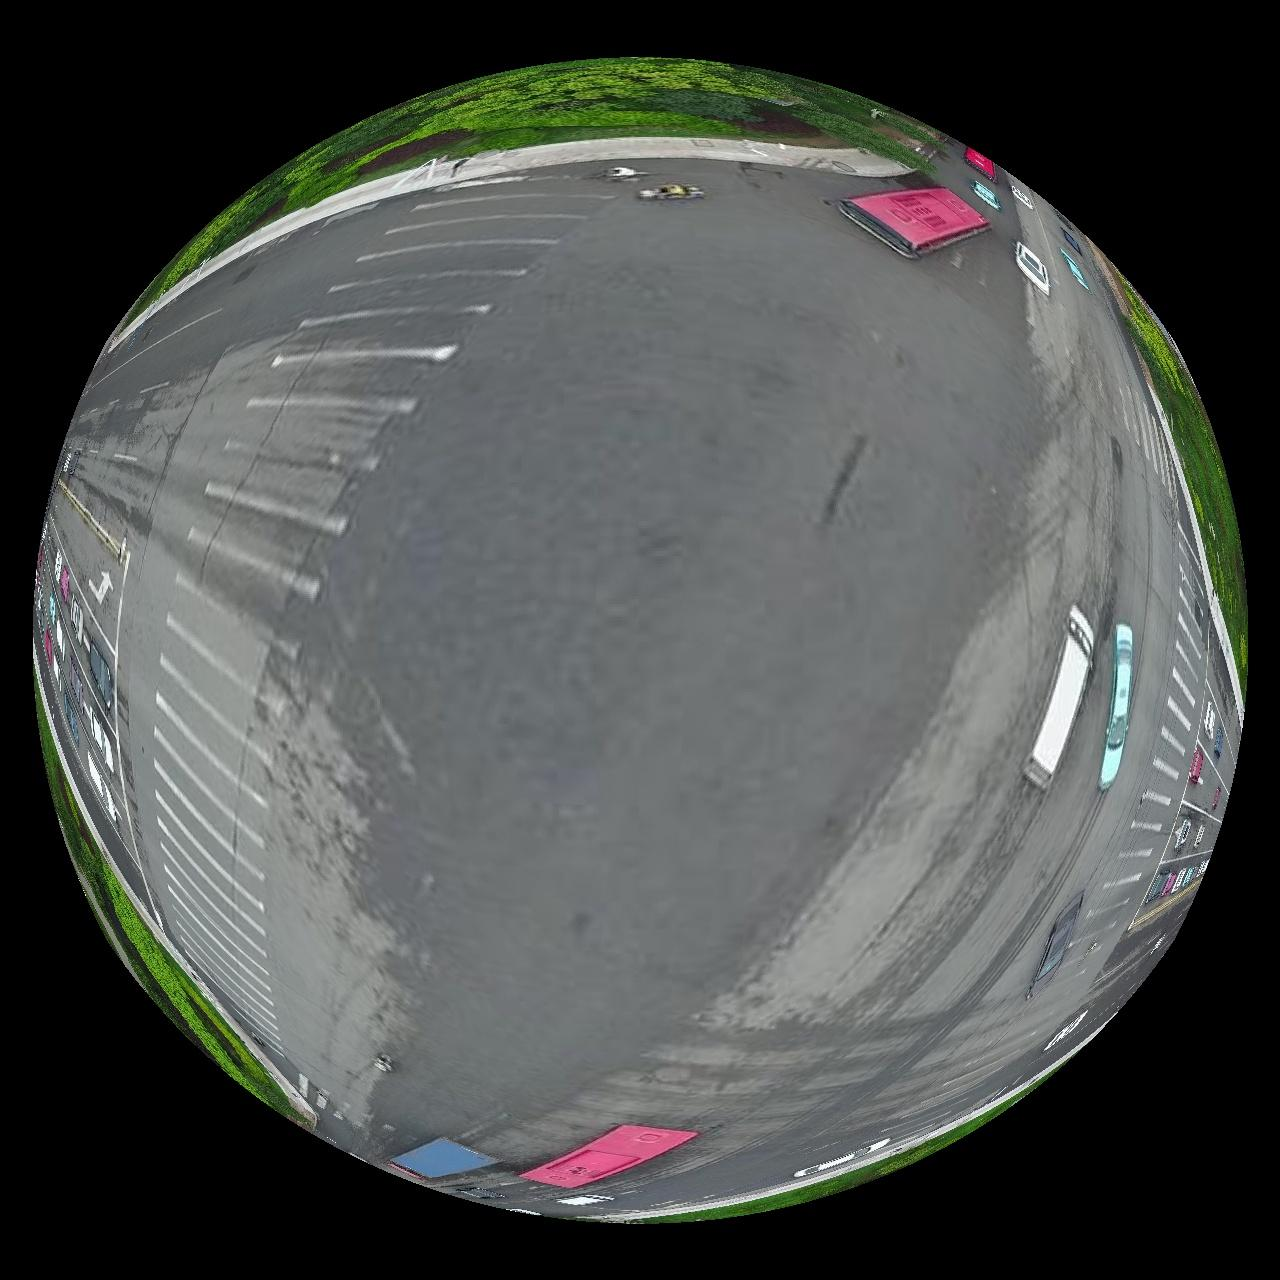cars: (1026, 606, 1096, 789), (522, 1126, 697, 1191), (839, 186, 992, 257), (1029, 893, 1085, 1001), (1102, 622, 1136, 790), (392, 1141, 496, 1180), (82, 634, 113, 713), (1020, 241, 1053, 294)
trees: (130, 56, 944, 313), (40, 707, 308, 1128)
